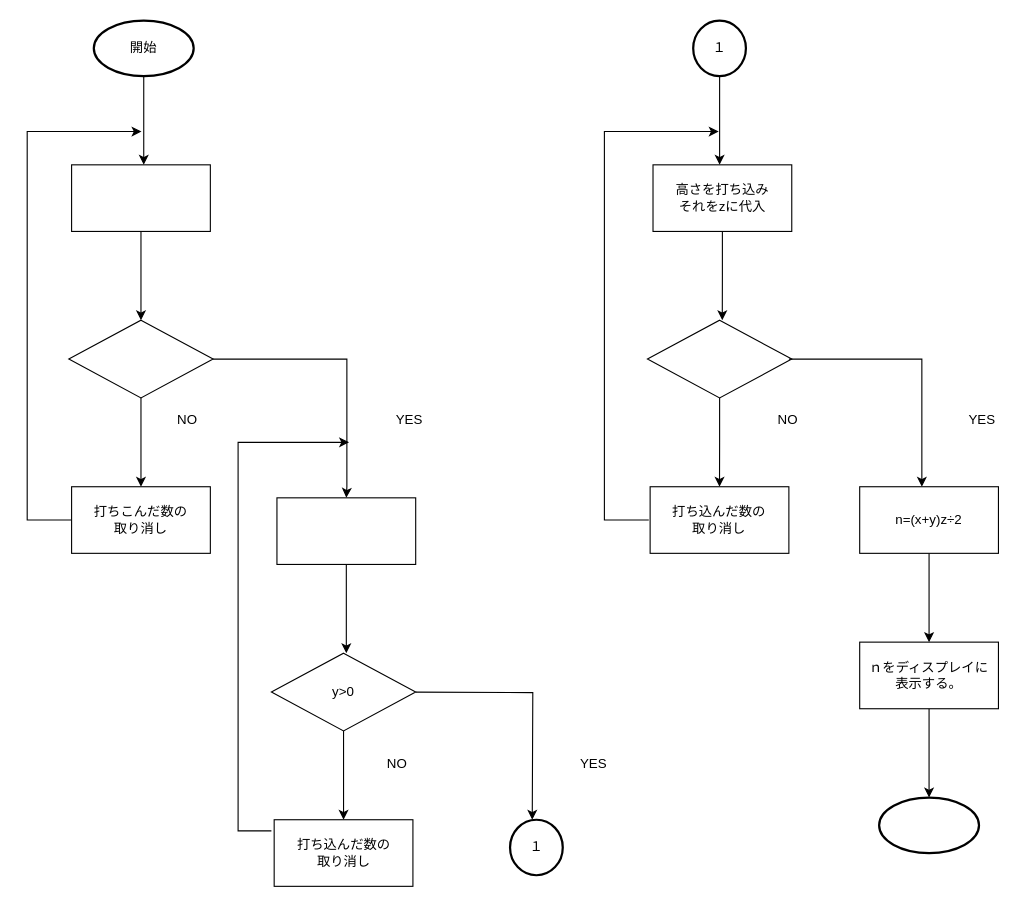
Some shapes in this 1023 by 906 pixel diagram are drawn without their labels. The shapes that lost their labels are listed below. From the top down, each one's centre as x and y in pixels, then its label:
At point (140, 197): "上底の長さを打ち込み それをxに代入".
At point (140, 358): "x>0".
At point (719, 358): "z>0".
At point (346, 530): "下底の長さを打ち込み それをyに代入".
At point (928, 825): "終了".
